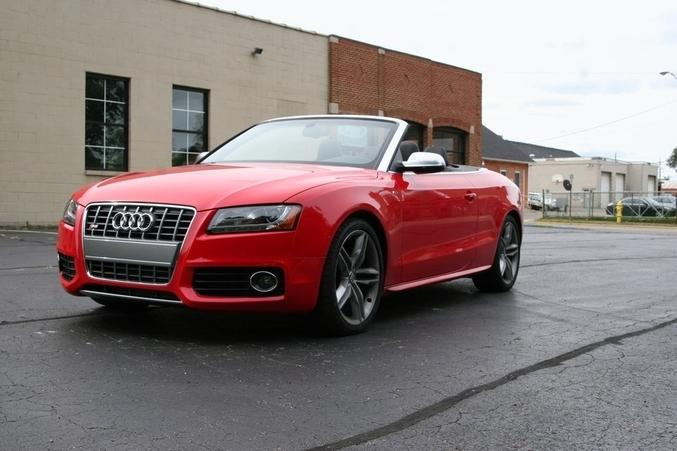Audi: (109, 208, 156, 237)
